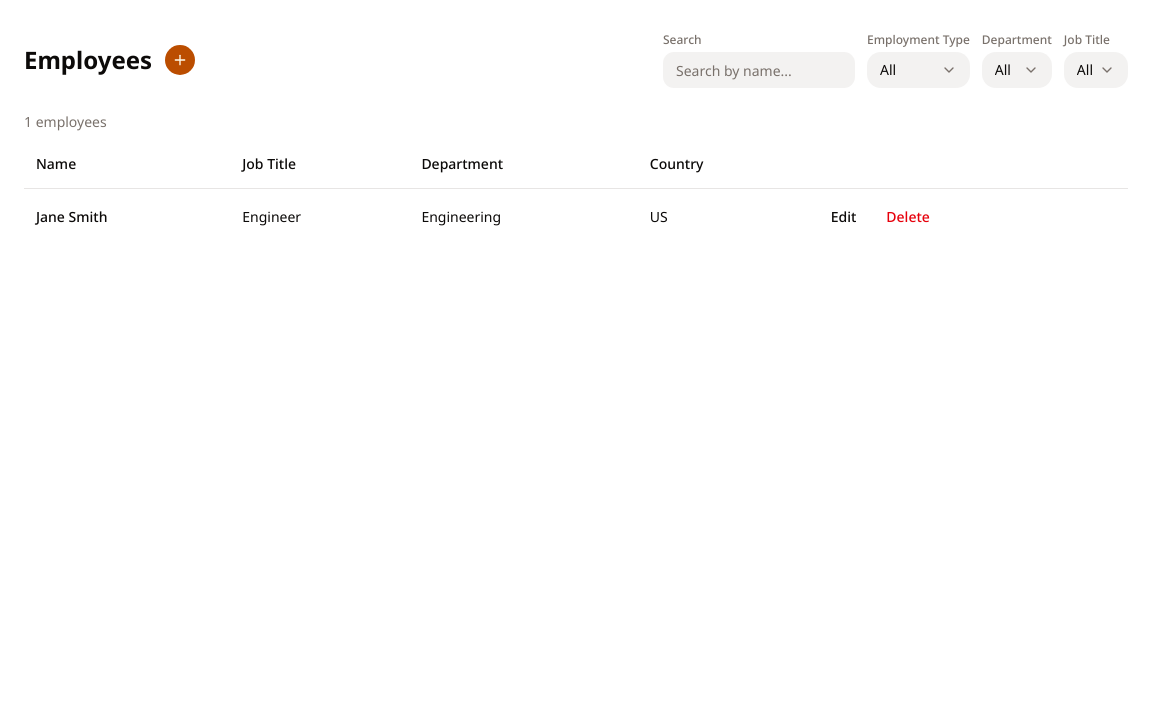
Test: EmployeesPage › add employee dialog › opens the dialog when the add employee button is clicked
The image size is (1152, 720).
Click the button named "add employee" at (180, 60), box [164,44,196,76]
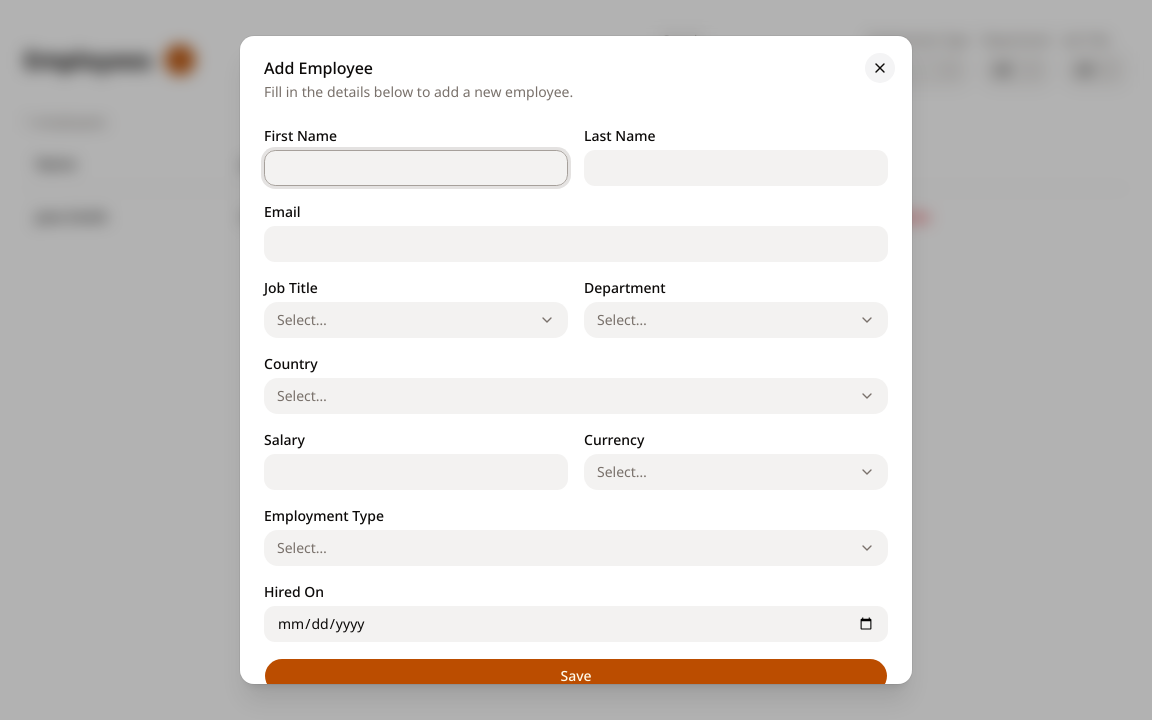
Check: the dialog is shown, box [240,36,912,684]
